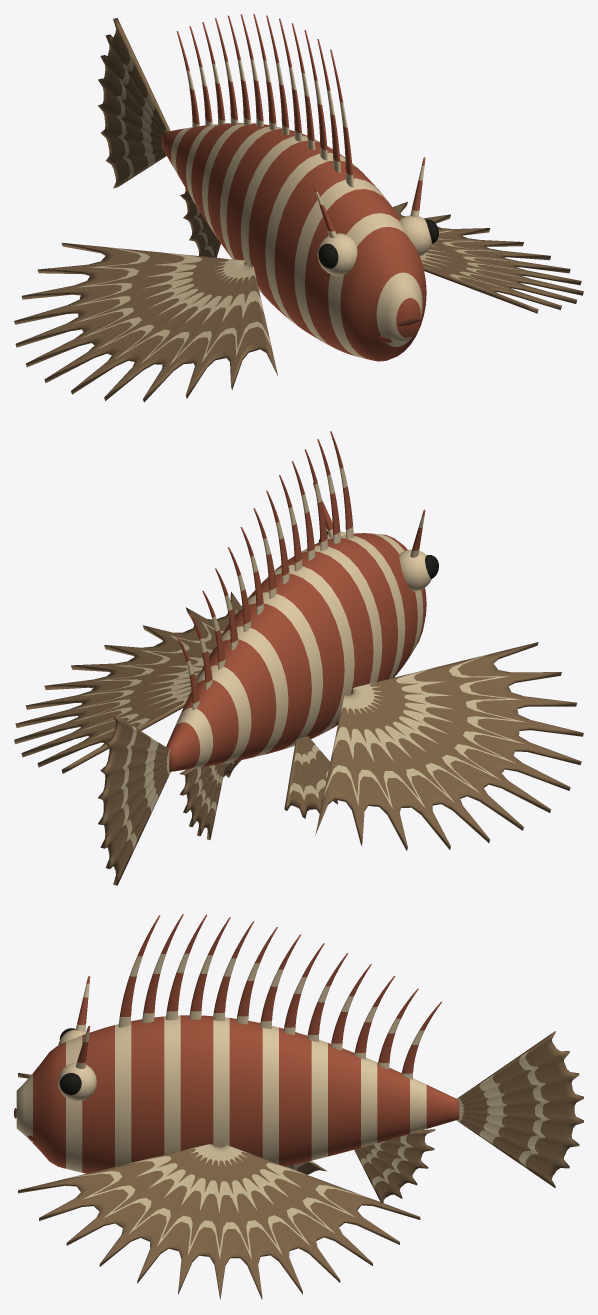
The picture shows the model from 3 angles, top to bottom: view 1: azimuth 30°, elevation 25°; view 2: azimuth 150°, elevation 25°; view 3: azimuth 270°, elevation 25°; orthographic projection. The views are drawn at different scales.
Parts seen in each view (by area): view 1: Striped_deep_body, Left_pectoral_fan, Right_pectoral_fan, Caudal_tail_fan, Anal_fin, Left_eye_socket, Right_eye_socket, Dorsal_spine_00, Dorsal_spine_01, Dorsal_spine_02, Dorsal_spine_03, Dorsal_spine_04 (+6 smaller); view 2: Striped_deep_body, Left_pectoral_fan, Right_pectoral_fan, Caudal_tail_fan, Left_pelvic_fin, Anal_fin, Left_eye_socket, Dorsal_spine_00, Dorsal_spine_01; view 3: Striped_deep_body, Right_pectoral_fan, Caudal_tail_fan, Anal_fin, Dorsal_spine_00, Dorsal_spine_01, Right_eye_socket, Dorsal_spine_02, Dorsal_spine_03, Dorsal_spine_04, Dorsal_spine_05, Dorsal_spine_06 (+6 smaller).
Part boxes in pixels (bbox=[...]): Striped_deep_body: bbox=[161, 123, 426, 361]; Left_pectoral_fan: bbox=[14, 243, 277, 402]; Right_pectoral_fan: bbox=[392, 201, 583, 313]; Caudal_tail_fan: bbox=[98, 18, 170, 188]; Anal_fin: bbox=[180, 188, 220, 257]; Left_eye_socket: bbox=[317, 233, 357, 275]; Right_eye_socket: bbox=[399, 215, 432, 255]; Dorsal_spine_00: bbox=[330, 49, 353, 187]; Dorsal_spine_01: bbox=[317, 39, 340, 172]; Dorsal_spine_02: bbox=[304, 30, 328, 160]; Dorsal_spine_03: bbox=[292, 23, 315, 150]; Dorsal_spine_04: bbox=[279, 18, 302, 141]; Striped_deep_body: bbox=[166, 533, 426, 771]; Left_pectoral_fan: bbox=[315, 642, 583, 850]; Right_pectoral_fan: bbox=[14, 591, 241, 773]; Caudal_tail_fan: bbox=[98, 715, 170, 885]; Left_pelvic_fin: bbox=[284, 736, 337, 818]; Anal_fin: bbox=[179, 763, 226, 840]; Left_eye_socket: bbox=[399, 549, 431, 591]; Dorsal_spine_00: bbox=[330, 431, 353, 538]; Dorsal_spine_01: bbox=[317, 439, 340, 543]; Striped_deep_body: bbox=[16, 1015, 459, 1173]; Right_pectoral_fan: bbox=[18, 1144, 420, 1299]; Caudal_tail_fan: bbox=[456, 1031, 583, 1188]; Anal_fin: bbox=[354, 1129, 435, 1202]; Dorsal_spine_00: bbox=[118, 915, 160, 1027]; Dorsal_spine_01: bbox=[142, 914, 183, 1022]; Right_eye_socket: bbox=[58, 1062, 96, 1101]; Dorsal_spine_02: bbox=[165, 914, 207, 1020]; Dorsal_spine_03: bbox=[189, 917, 230, 1019]; Dorsal_spine_04: bbox=[213, 921, 254, 1020]; Dorsal_spine_05: bbox=[236, 927, 277, 1024]; Dorsal_spine_06: bbox=[260, 934, 300, 1028].
Bounding box in the file's own units: 0.2746 × 0.1688 × 0.2911.
